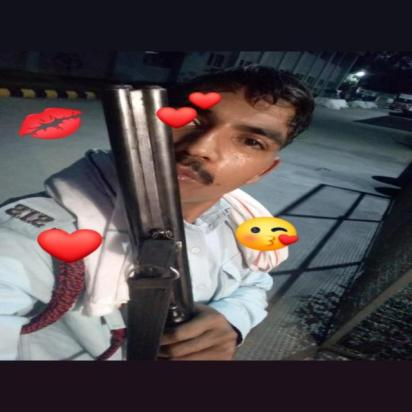Gun: (94, 82, 202, 361)
